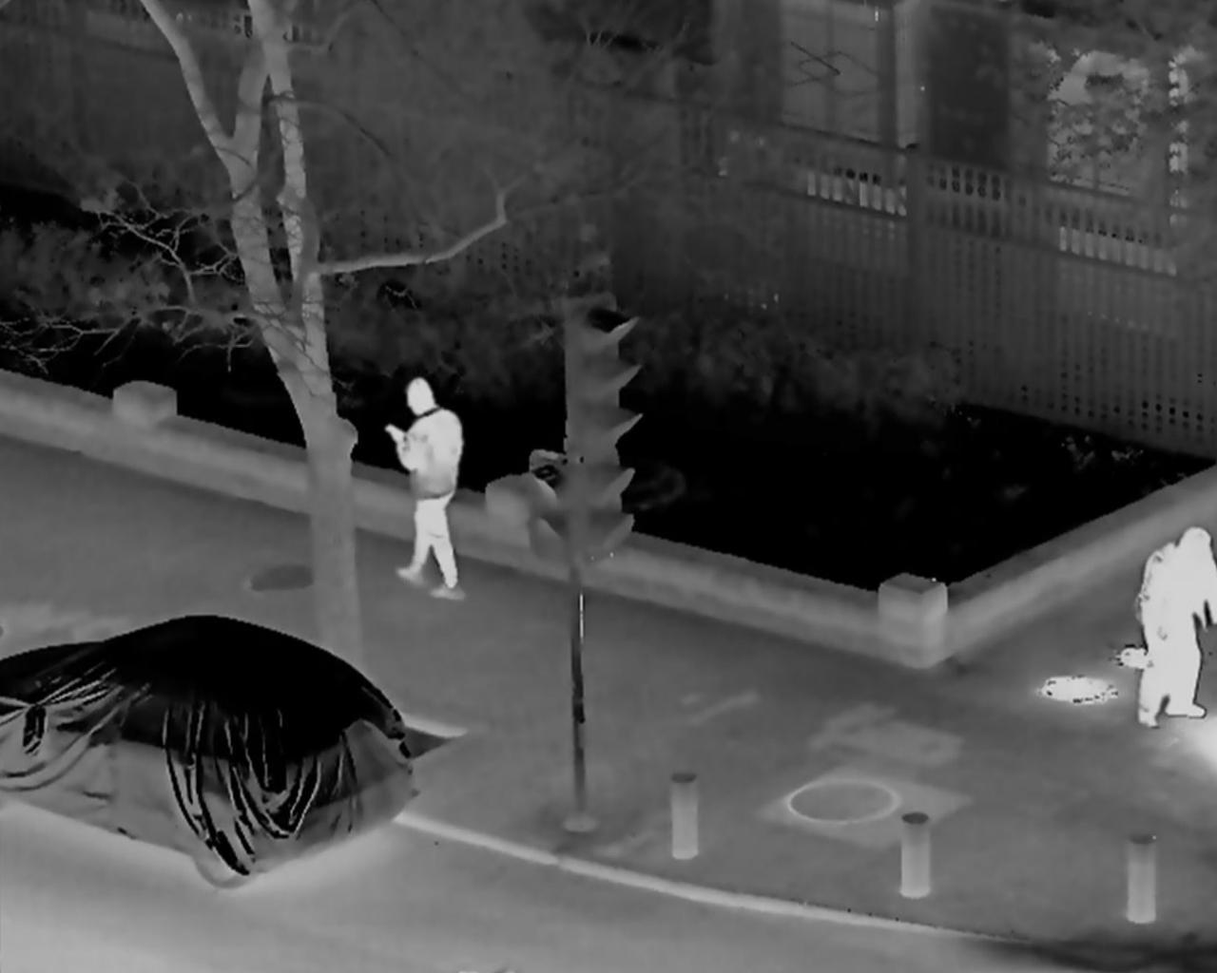person: (382, 378, 464, 602), (1139, 527, 1217, 720)
